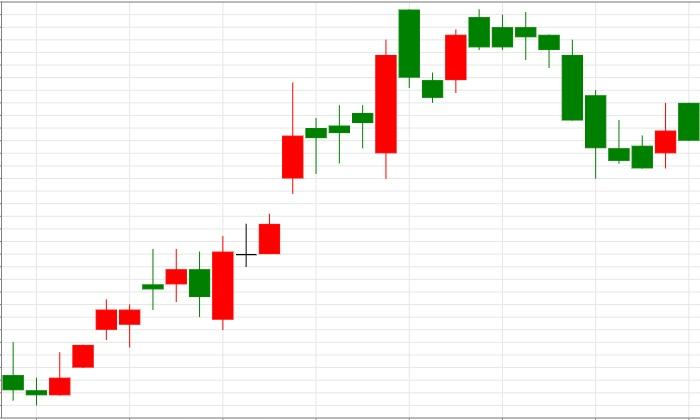bearish_engulfing_fall: (257, 39, 397, 255), (49, 235, 235, 396)
